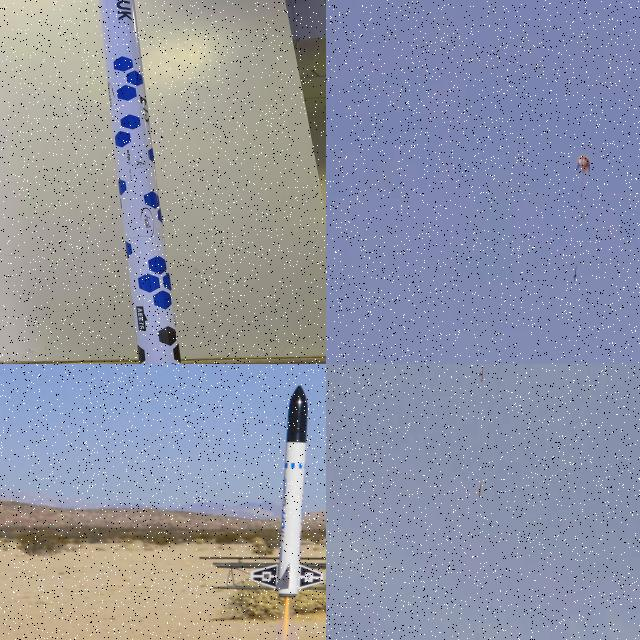Rocket: (97, 0, 182, 364), (249, 384, 324, 599), (477, 482, 482, 499)
